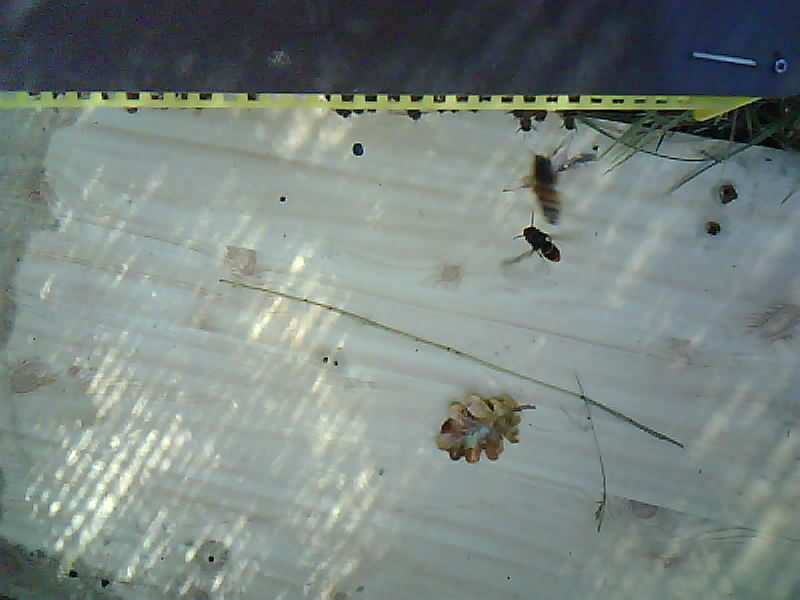hornet: (520, 221, 564, 266)
